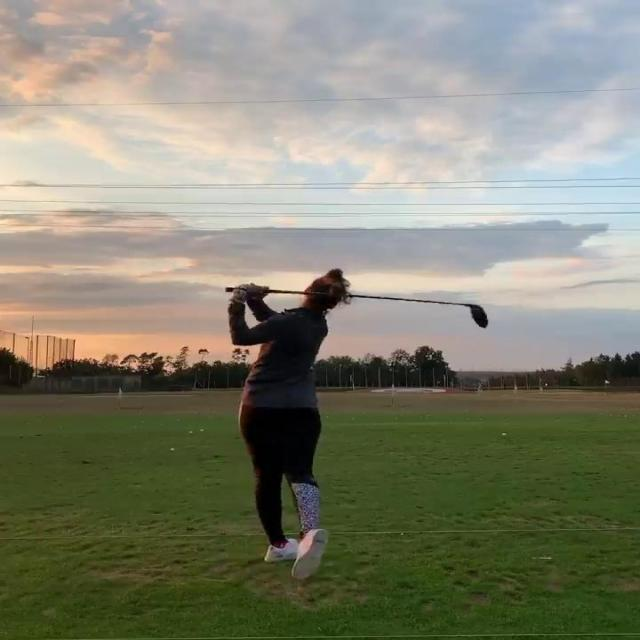ClubHead: (466, 304, 491, 330)
